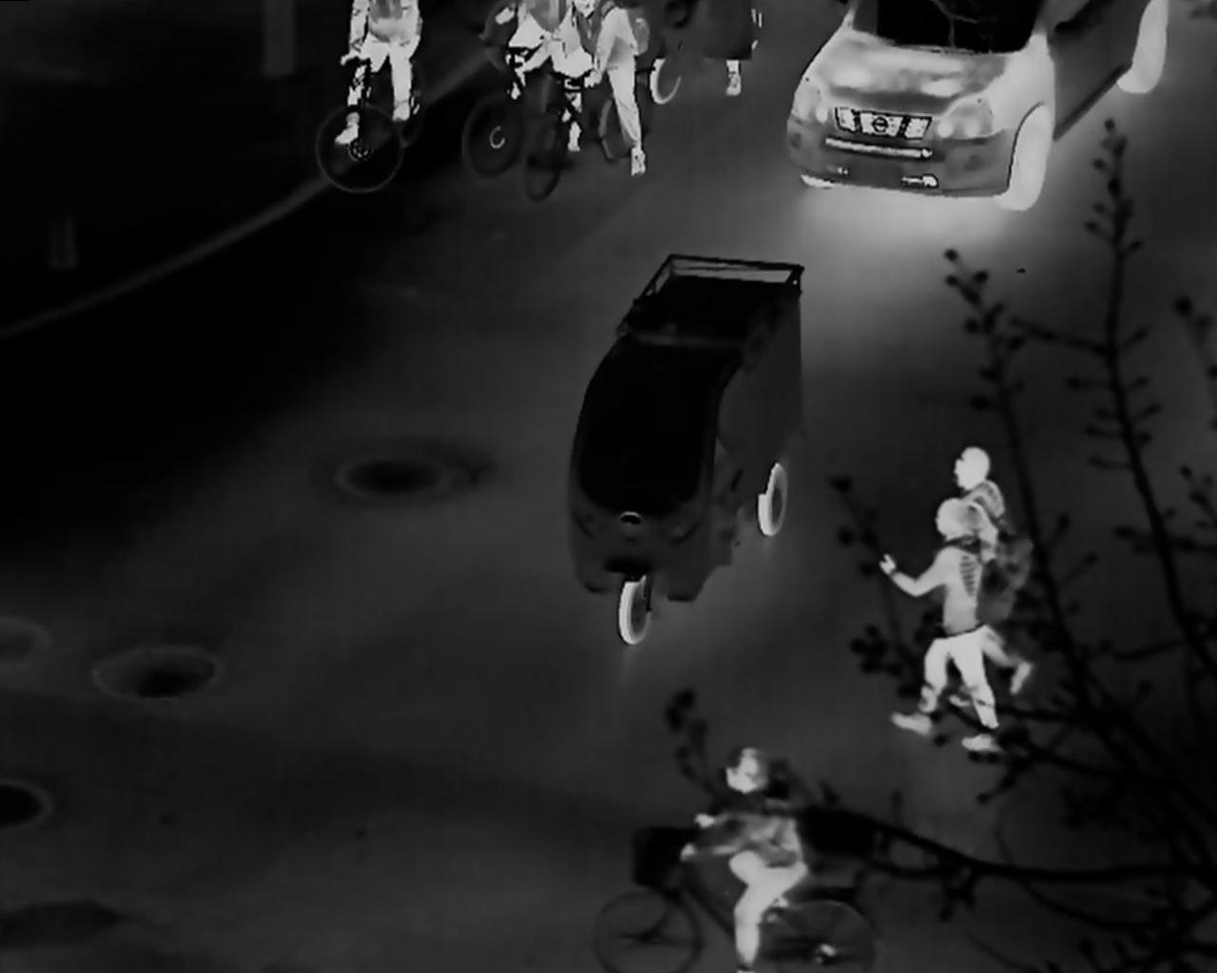person: (879, 498, 1008, 756), (676, 742, 812, 973), (950, 444, 1035, 697), (561, 2, 655, 180), (333, 2, 428, 146)
